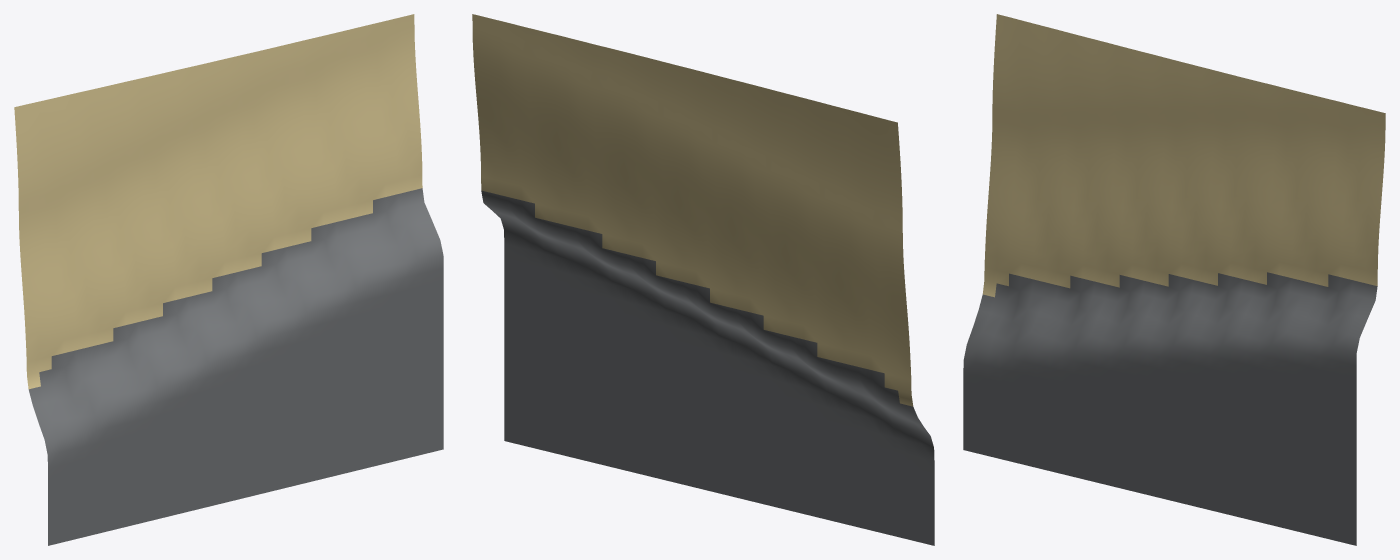
Rendered from island_terrain_09_10.obj.
The picture shows the model from 3 angles, left to right: view 1: azimuth 30°, elevation 25°; view 2: azimuth 150°, elevation 25°; view 3: azimuth 330°, elevation 25°; orthographic projection. The views are drawn at different scales.
Visible parts, largest first — view 1: island_terrain_09_10; view 2: island_terrain_09_10; view 3: island_terrain_09_10.
Boxes of the visible parts, x1,y1,x2,y2 form: island_terrain_09_10: (14, 14, 443, 545); island_terrain_09_10: (472, 14, 934, 545); island_terrain_09_10: (963, 14, 1385, 545).
Bounding box in the file's own units: 256 × 256 × 37.78.
